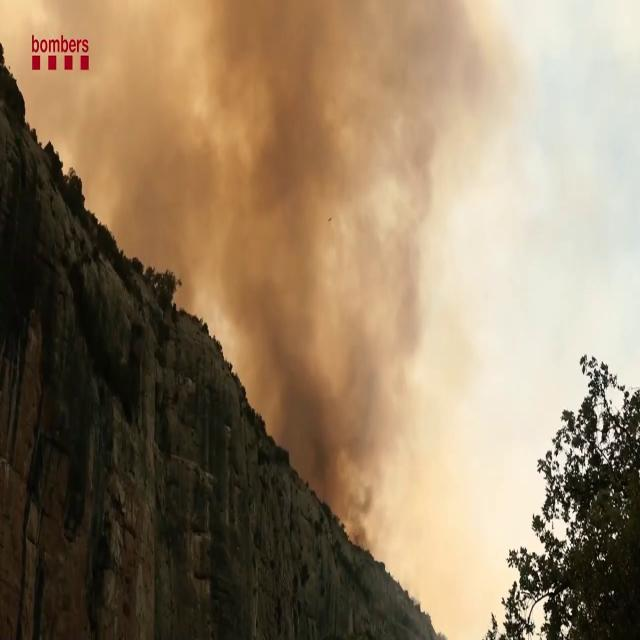Smoke: (126, 0, 526, 574)
